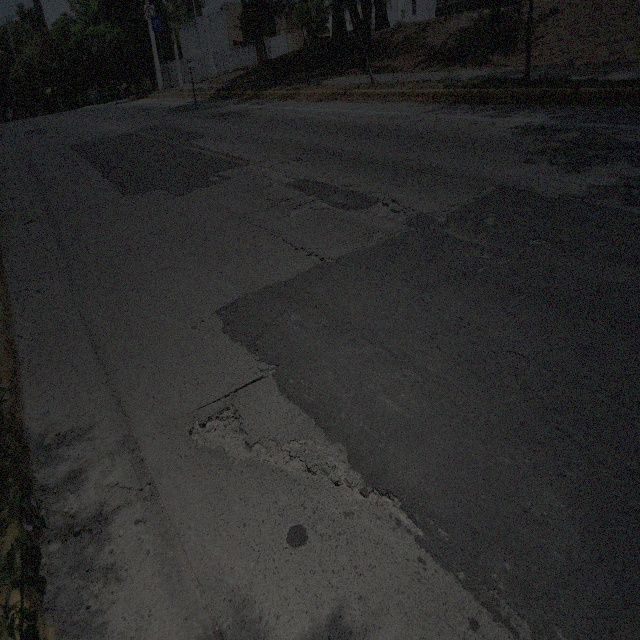pothole: (185, 402, 252, 468), (250, 434, 312, 479), (364, 196, 407, 228), (290, 199, 314, 221), (528, 235, 549, 249), (368, 229, 391, 240), (482, 214, 498, 228), (286, 156, 307, 164)
